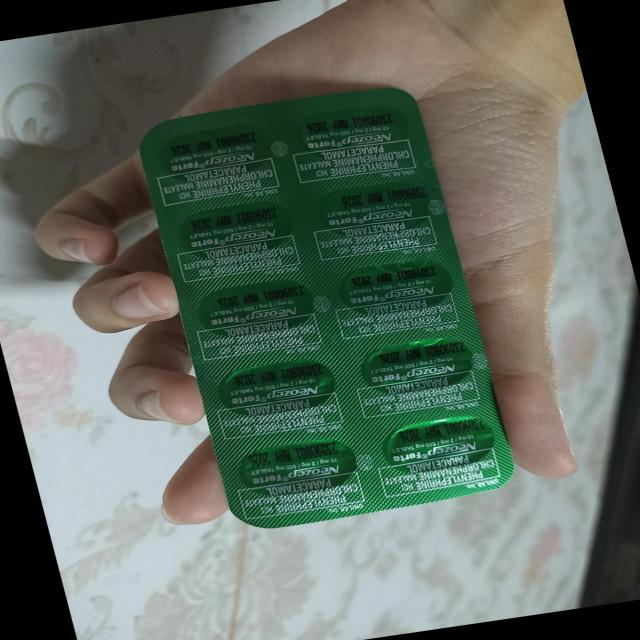Neozep_Strip: (115, 79, 530, 537)
